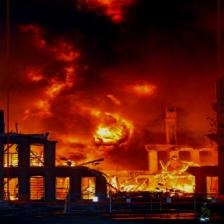fire: (7, 0, 219, 203)
